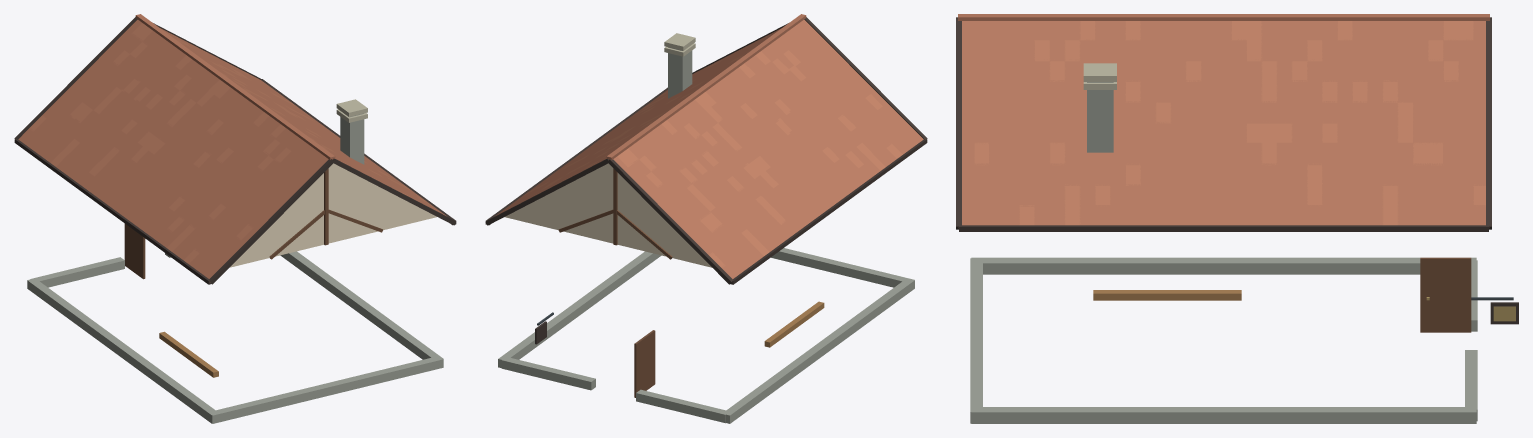
File: SM_Carpentry_Details.glb
3 views of the same model, side by side, from view 1: azimuth 30°, elevation 25°; view 2: azimuth 150°, elevation 25°; view 3: azimuth 270°, elevation 25° (orthographic). The views are drawn at different scales.
Visible parts, largest first — view 1: SM_Carpentry_Details; view 2: SM_Carpentry_Details; view 3: SM_Carpentry_Details.
Boxes of the visible parts, <box> form: SM_Carpentry_Details: <box>14,14,456,423</box>; SM_Carpentry_Details: <box>485,14,927,423</box>; SM_Carpentry_Details: <box>956,14,1518,423</box>.
Bounding box in the file's own units: 11.06 × 10.34 × 15.93.
